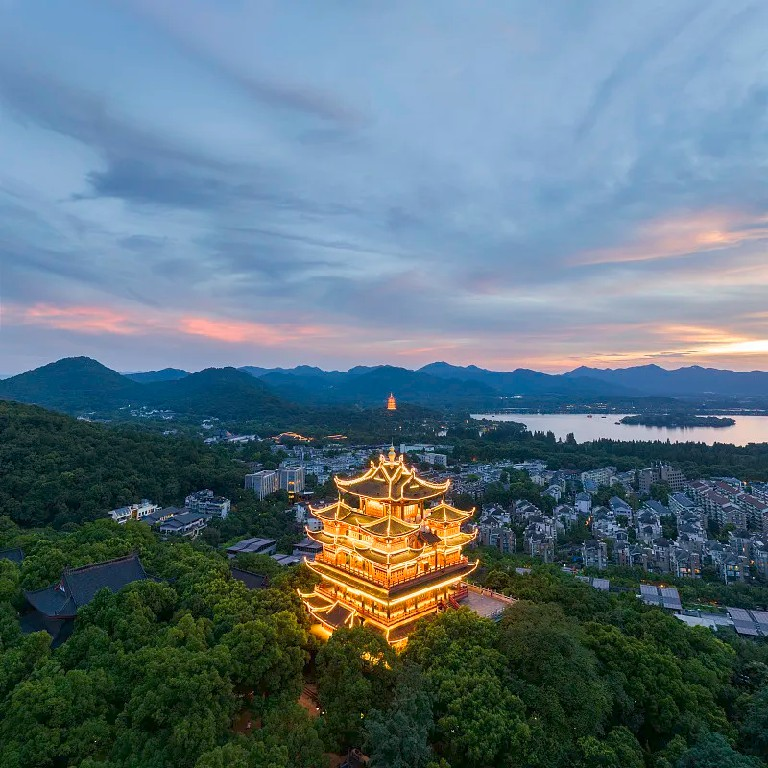Leifeng: (387, 392, 396, 410)
